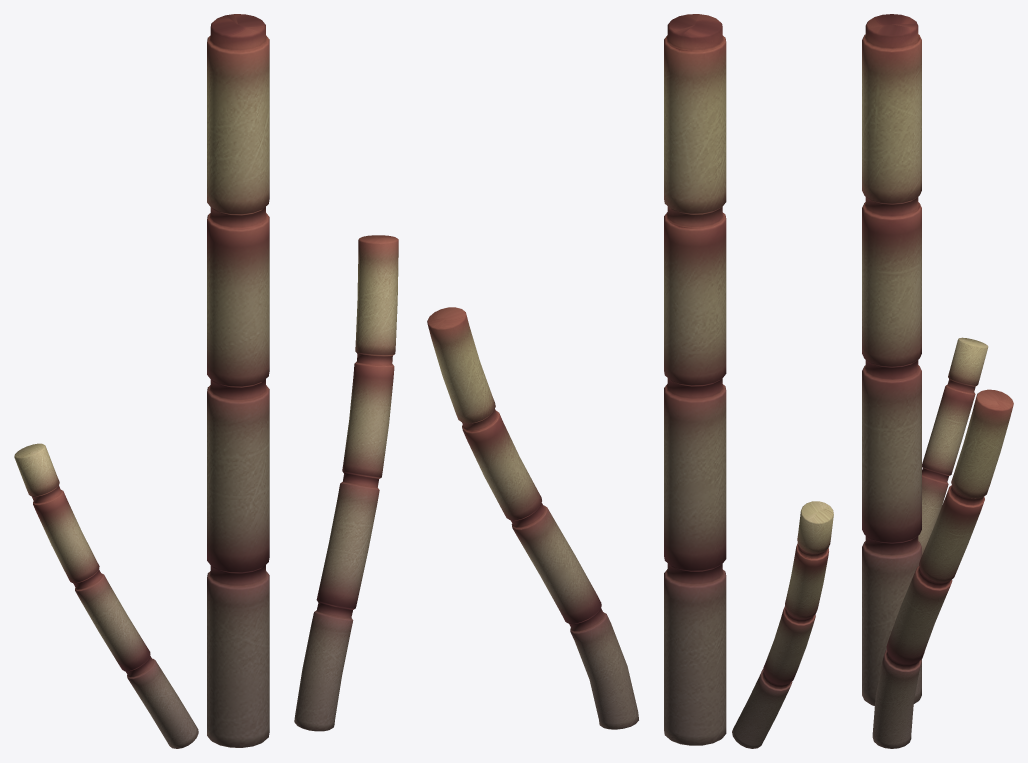
File: SugarCane_Stage_2.fbx
The picture shows the model from 3 angles, left to right: view 1: azimuth 30°, elevation 25°; view 2: azimuth 150°, elevation 25°; view 3: azimuth 270°, elevation 25°; orthographic projection. The views are drawn at different scales.
Parts seen in each view (by area): view 1: Cylinder.009; view 2: Cylinder.009; view 3: Cylinder.009.
Part boxes in pixels (x1=…): Cylinder.009: x1=14, y1=14, x2=398, y2=748; Cylinder.009: x1=427, y1=14, x2=833, y2=748; Cylinder.009: x1=862, y1=14, x2=1013, y2=748.
Bounding box in the file's own units: 79.75 × 140 × 28.28.
Materials: 1 (1 with a texture image).
